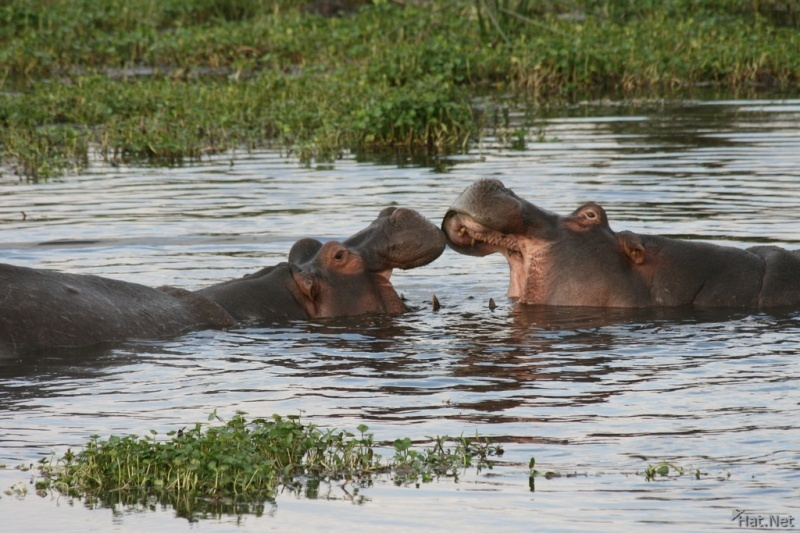hipopotamo: (0, 203, 435, 364), (442, 174, 800, 325)
